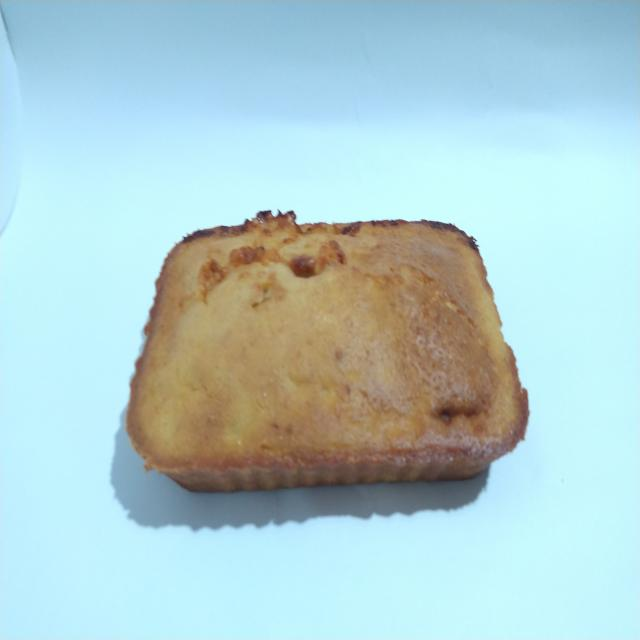Sopa: (117, 198, 531, 510)
